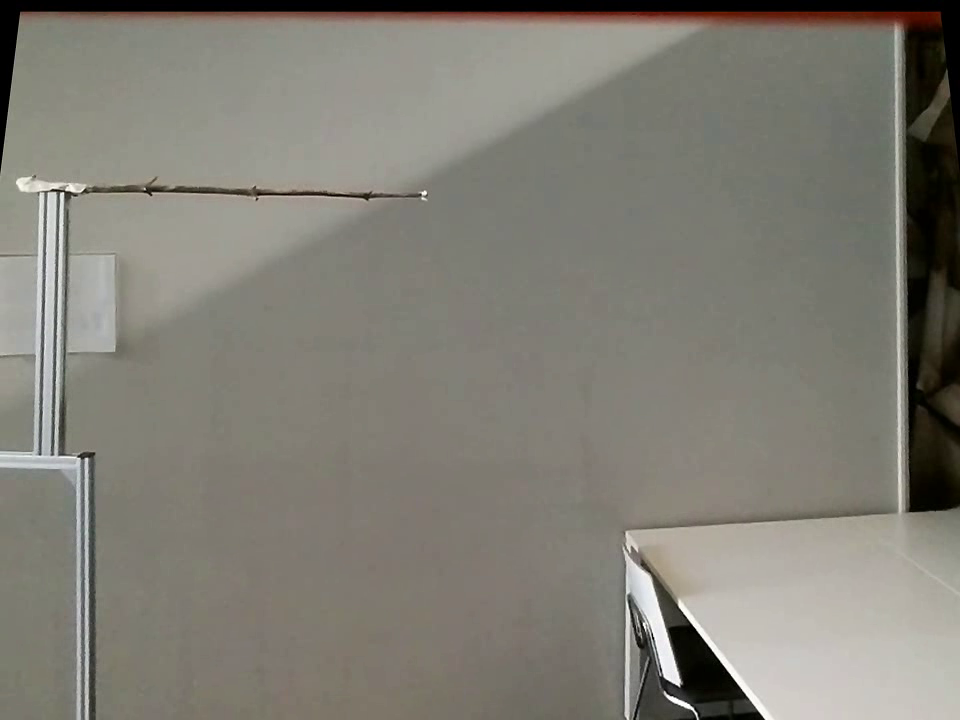aluminum_frame: (34, 194, 67, 449), (69, 448, 100, 718), (1, 449, 81, 472)
branch: (86, 175, 408, 207)
